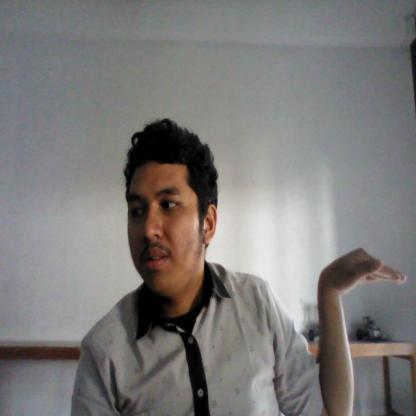Z: (312, 244, 408, 414)
